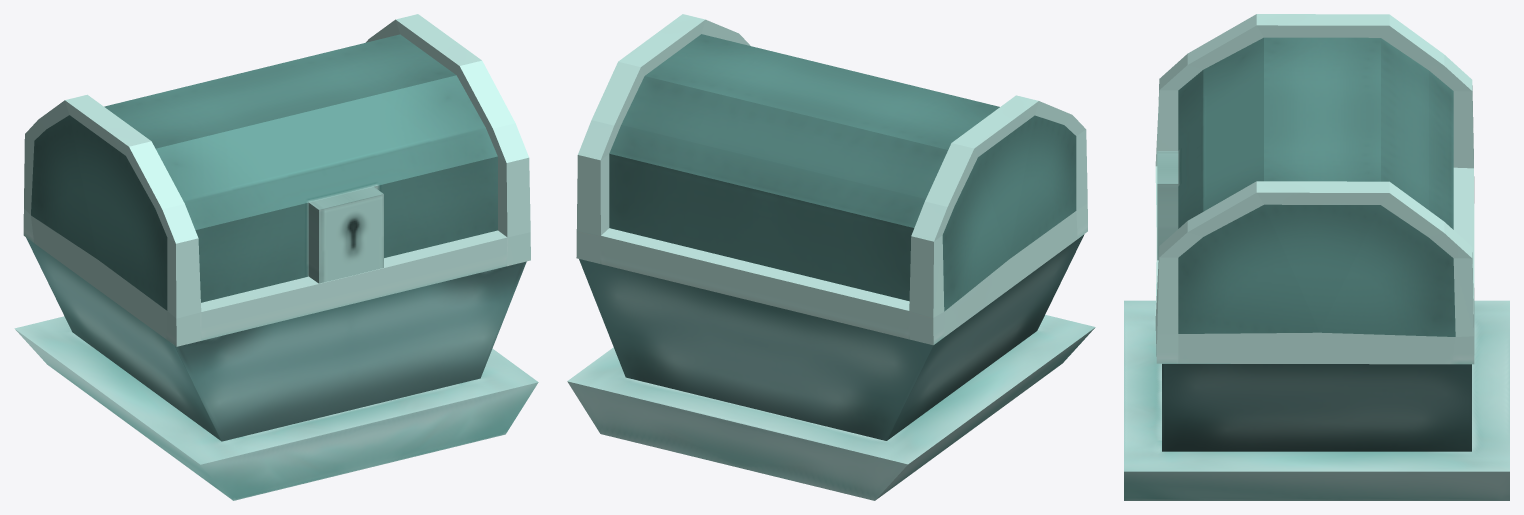
Rendered from cofre_evelyn.fbx.
The picture shows the model from 3 angles, left to right: view 1: azimuth 30°, elevation 25°; view 2: azimuth 150°, elevation 25°; view 3: azimuth 270°, elevation 25°; orthographic projection. The views are drawn at different scales.
Parts seen in each view (by area): view 1: Cube.001, cofre; view 2: Cube.001, cofre; view 3: Cube.001, cofre.
Part boxes in pixels (x1,y1,x2,y2): Cube.001: (23,14,530,346); cofre: (14,237,538,500); Cube.001: (576,14,1087,345); cofre: (567,234,1095,500); Cube.001: (1155,14,1474,364); cofre: (1124,300,1509,500).
Bounding box in the file's own units: 276 × 234 × 249.
2 materials, 2 textured.
